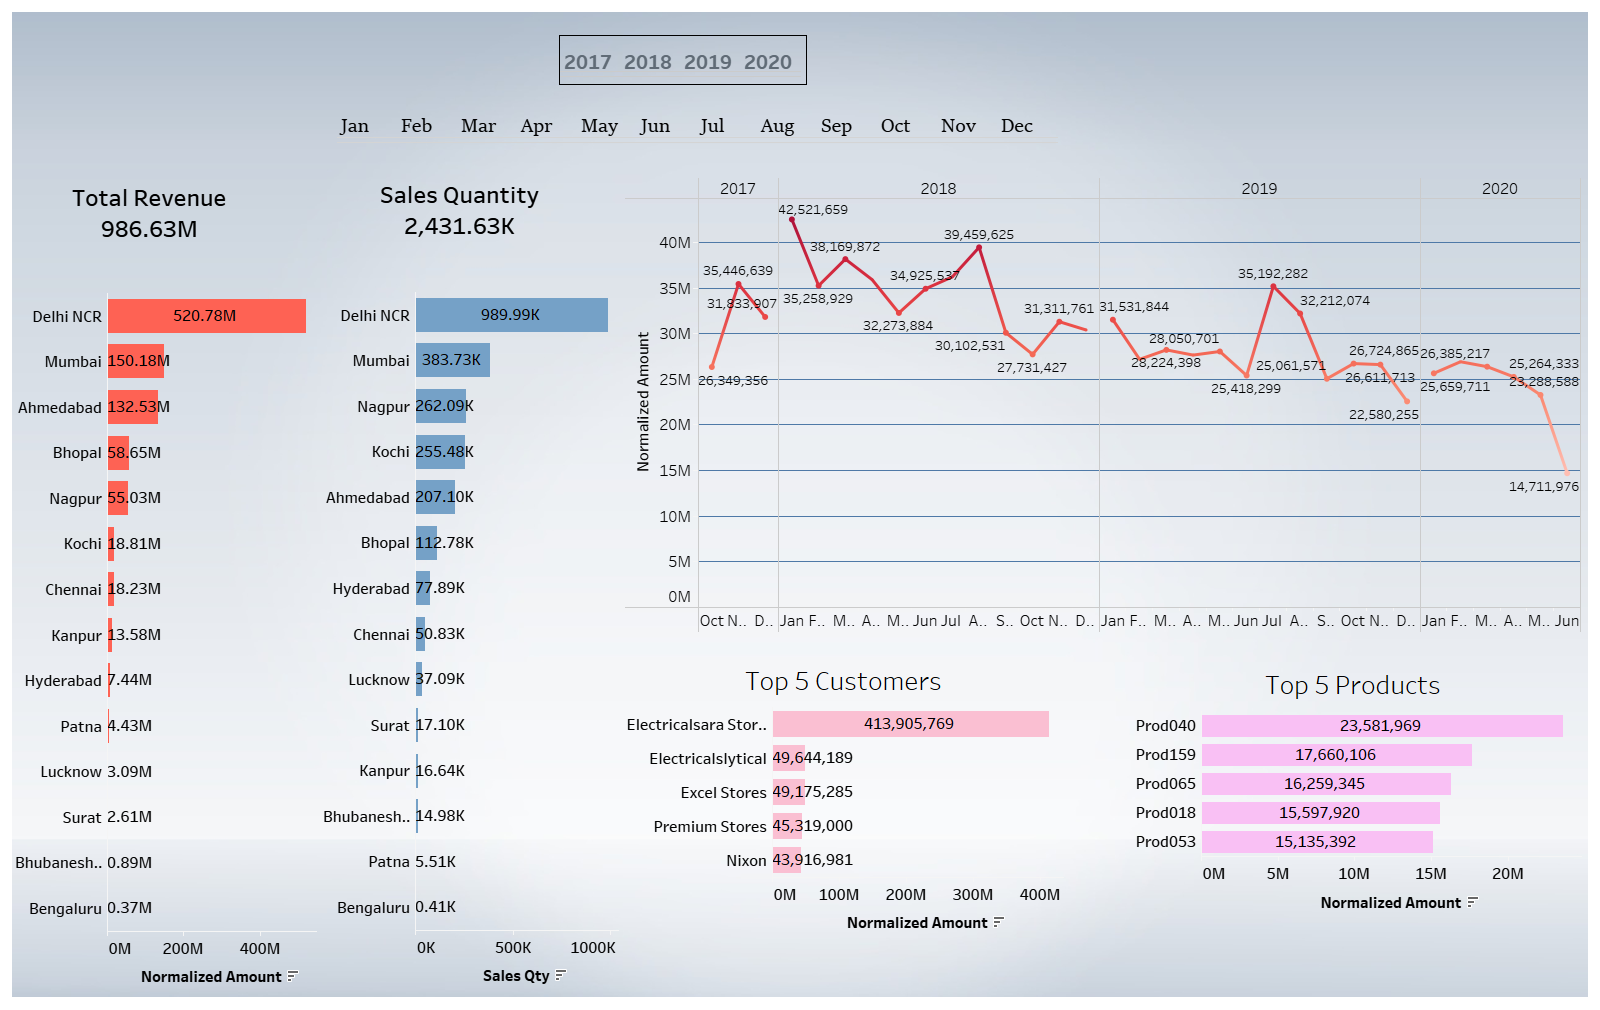

This screenshot's page, from the dashboard's own definition file:
{"tool":"tableau","page":{"name":"Dashboard 1","canvas":[1600,1010],"ordinal":0},"visuals":[{"type":"image","box":[8,8,1584,994]},{"type":"worksheet","title":"Year","mark":"Automatic","cols":["cy_date"],"box":[553,29,260,62]},{"type":"worksheet","title":"Month","mark":"Automatic","cols":["cy_date"],"box":[337,102,729,49]},{"type":"worksheet","title":"Quantity","mark":"Automatic","box":[370,162.7,186,105.5]},{"type":"worksheet","title":"Revenue by Year","mark":"Automatic","rows":["Calculation_1221882935671848960"],"cols":["cy_date","cy_date"],"box":[625,163,956,470]},{"type":"worksheet","title":"Revenue","mark":"Automatic","box":[60,166.1,185,104.4]},{"type":"worksheet","title":"Sales Quantity by Markets","mark":"Automatic","rows":["markets_name"],"cols":["sales_qty"],"box":[323,277,295,716]},{"type":"worksheet","title":"Revenue by Markets","mark":"Automatic","rows":["markets_name"],"cols":["Calculation_1221882935671848960"],"box":[15,278,301,716]},{"type":"worksheet","title":"Top 5 Customers","mark":"Automatic","rows":["custmer_name"],"cols":["Calculation_1221882935671848960"],"box":[624,657,489,339]},{"type":"worksheet","title":"Top 5 Products","mark":"Automatic","rows":["product_code (products)"],"cols":["Calculation_1221882935671848960"],"box":[1125,661,456,333]}]}

Visuals, with their boxes in screenshot pixels (x1, y1, x2, y2), scaled from the page's 1600x1010 canvas onto the 1600x1010 screenshot:
image: bbox(8, 8, 1592, 1002)
"Year" worksheet: bbox(553, 29, 813, 91)
"Month" worksheet: bbox(337, 102, 1066, 151)
"Quantity" worksheet: bbox(370, 163, 556, 268)
"Revenue by Year" worksheet: bbox(625, 163, 1581, 633)
"Revenue" worksheet: bbox(60, 166, 245, 270)
"Sales Quantity by Markets" worksheet: bbox(323, 277, 618, 993)
"Revenue by Markets" worksheet: bbox(15, 278, 316, 994)
"Top 5 Customers" worksheet: bbox(624, 657, 1113, 996)
"Top 5 Products" worksheet: bbox(1125, 661, 1581, 994)
